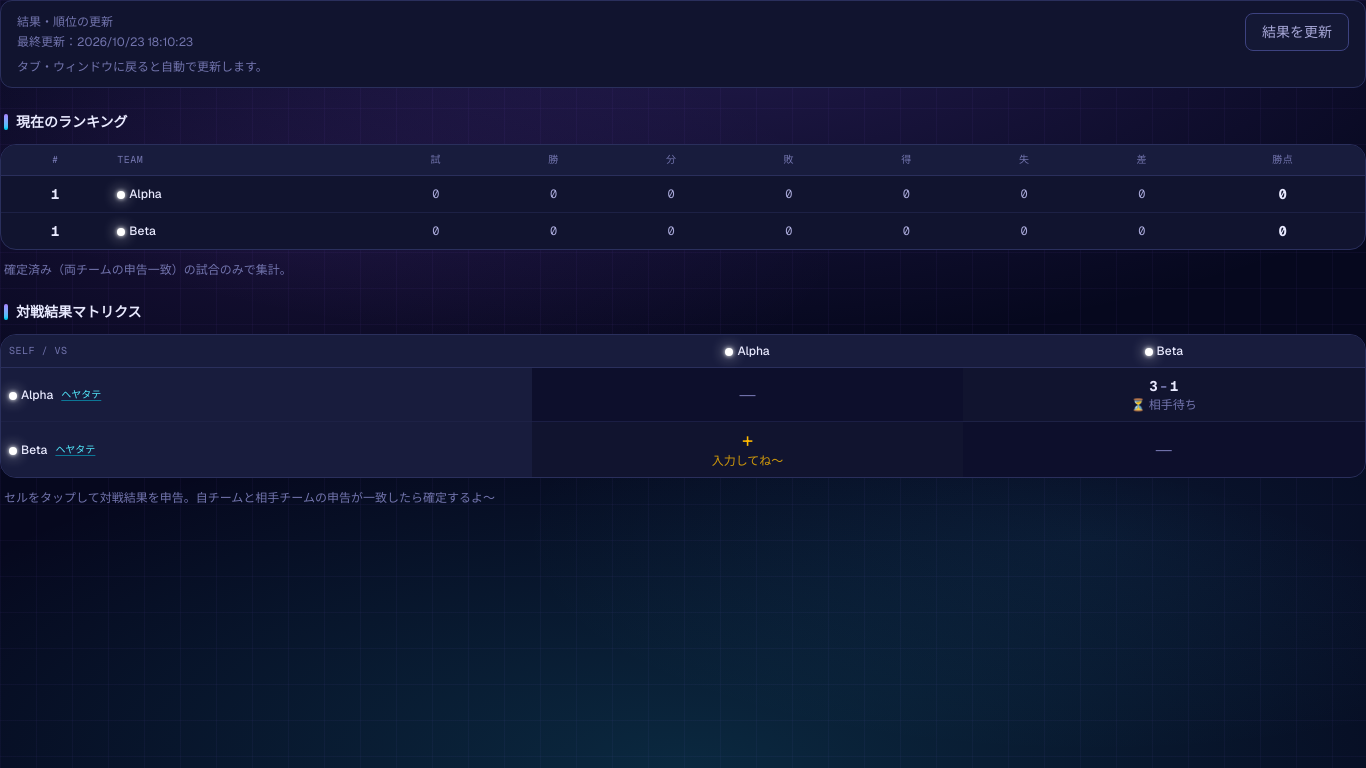
Test case: MatchMatrix result refresh › updates pending, mismatch and confirmed status together with ranking
The image size is (1366, 768).
Check: the text "⏳ 相手待ち" is shown, box [1131,397,1197,413]
Check: the 8th cell "0" is shown, box [1201,176,1365,213]
Click the button "結果を更新" at (1297, 32), box [1245,13,1349,51]
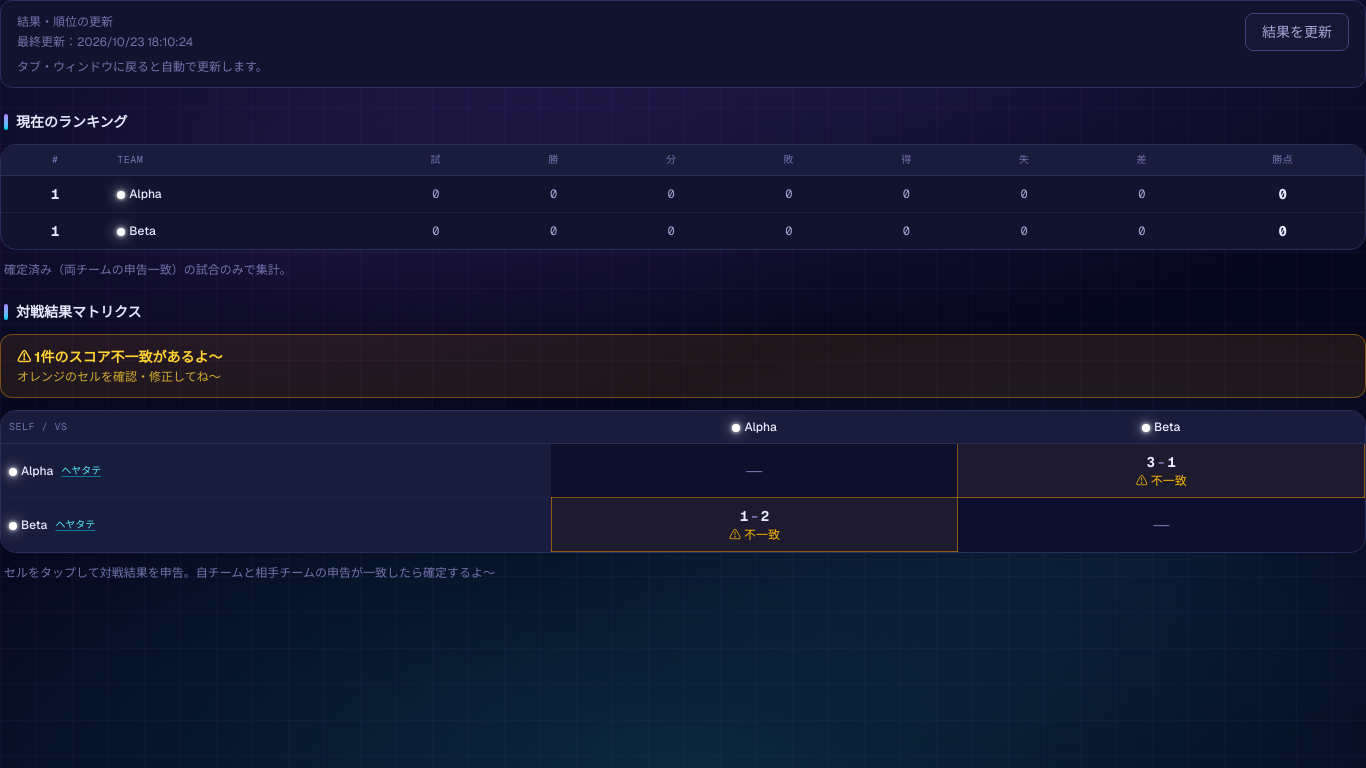
Check: the text "⚠ 不一致" is shown 2 times, box [1136,473,1187,489]; [729,527,780,543]
Check: the text "⚠ 1件のスコア不一致があるよ〜" is shown, box [17,348,222,366]
Click the button "結果を更新" at (1297, 32), box [1245,13,1349,51]
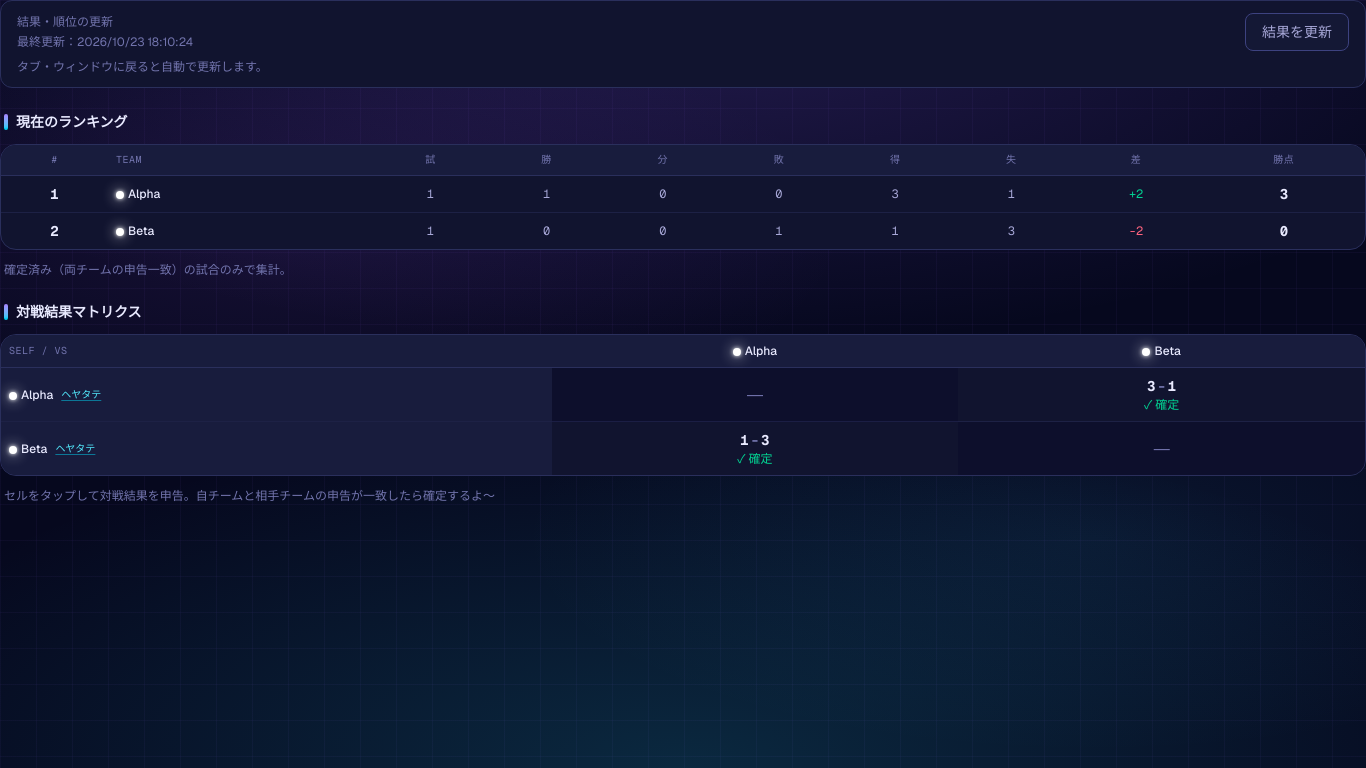
Check: the text "✓ 確定" is shown 2 times, box [1144,397,1179,413]; [737,451,772,467]
Check: the text "⚠ 不一致" is gone
Check: the 2nd cell "3" is shown, box [1203,176,1365,213]
